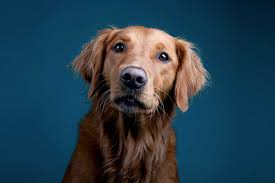Bulldog: (35, 11, 231, 183)
